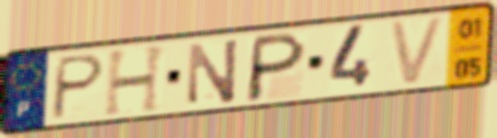4: (326, 21, 379, 95)
H: (101, 42, 171, 119)
N: (186, 36, 242, 107)
P: (242, 29, 310, 104), (47, 52, 108, 123)
V: (386, 13, 450, 89)
